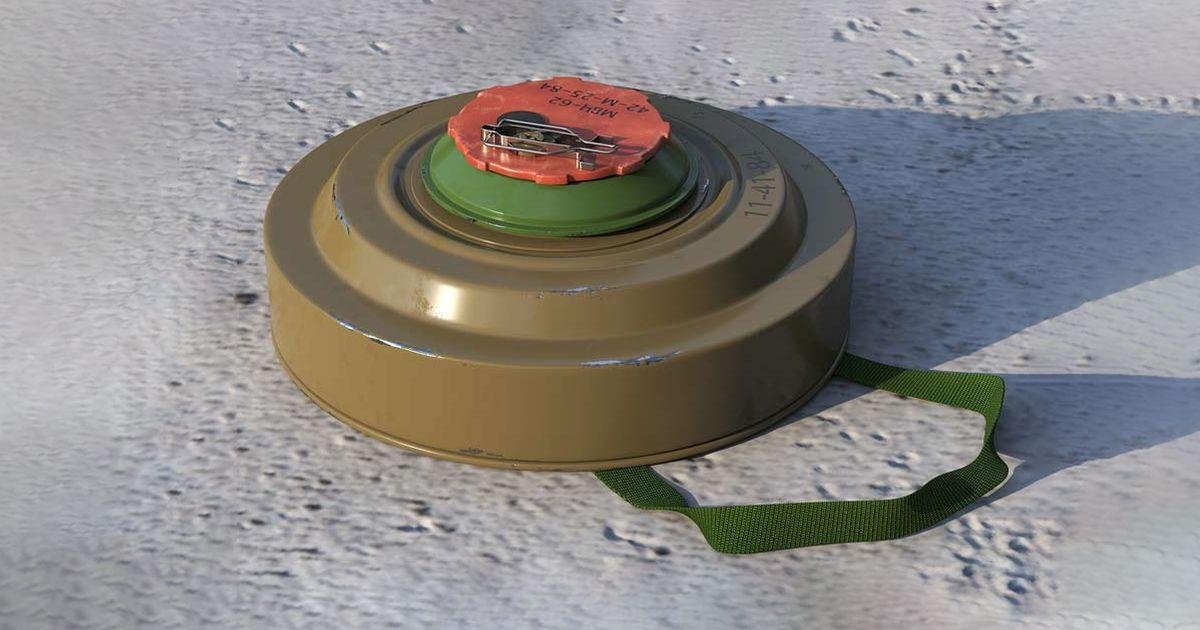TM 62: (264, 79, 859, 474)
